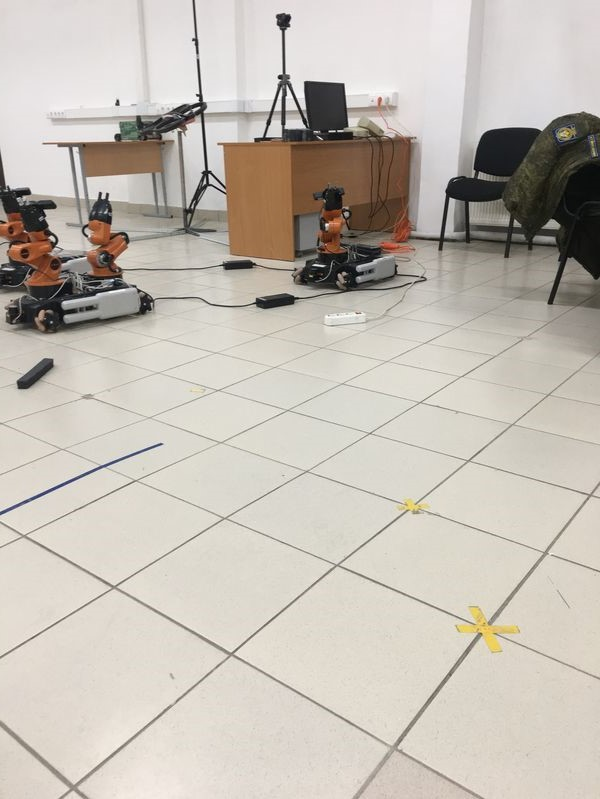socket: (318, 310, 373, 328)
